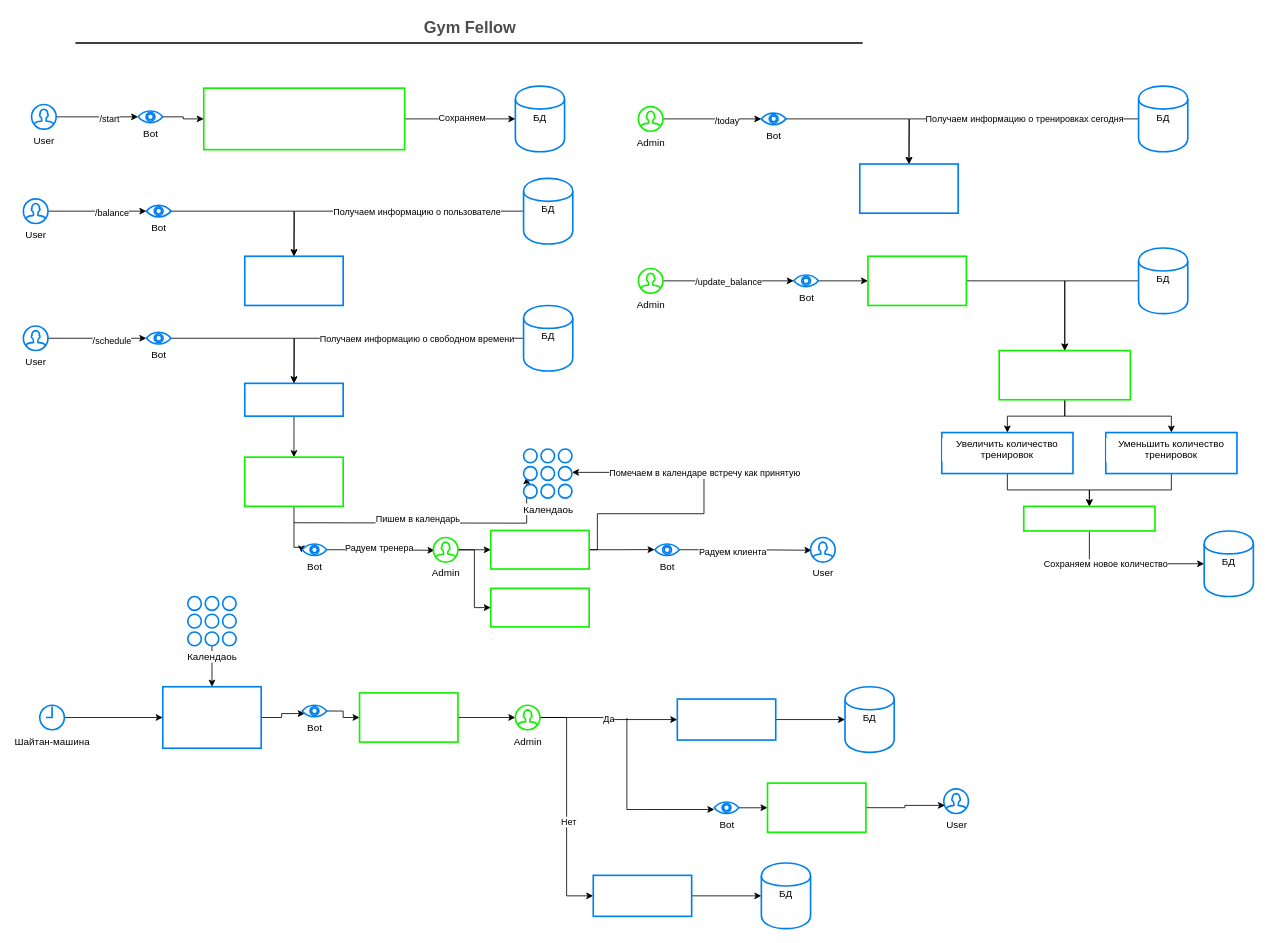
This 1268x943 diagram has some shape labels left out. Each missing label, with the centre of its shape:
Как прошло? Запишемся ещё разок?: (816,807)
На сколько?: (1089,518)
Отображаем количество тренировок: (294,280)
Отображаем тренировки и людей: (909,188)
Показываем текущий баланс и спрашиваем что сделать?: (1064,374)
Пользователь выбрал время: (294,481)
Помечаем пользователя как редиску: (642,895)
Предлагаем варианты: (294,399)
Раз в полчаса проверяет какие тренировки должны были пройти: (212,717)
Регистрация — логин телеги — спрашиваем номер телефона — спрашиваем имя: (304,118)
Списываем 1 тренировку с баланса: (726,719)
Тренер НЕ принимает встречу: (540,607)
Тренер принимает встречу: (540,549)
Тренировка была?: (408,717)
Уточняем пользователя: (917,280)
